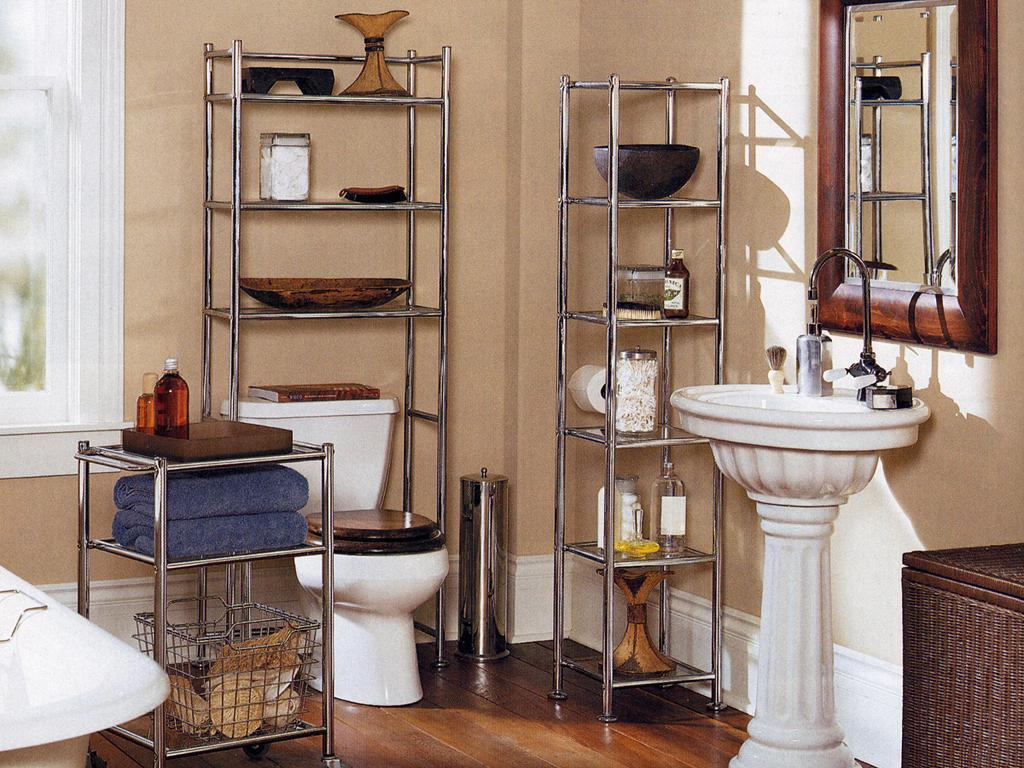Lavamanos: (671, 226, 905, 767)
Sanitario: (236, 391, 463, 717)
Ventana: (4, 14, 126, 444)
